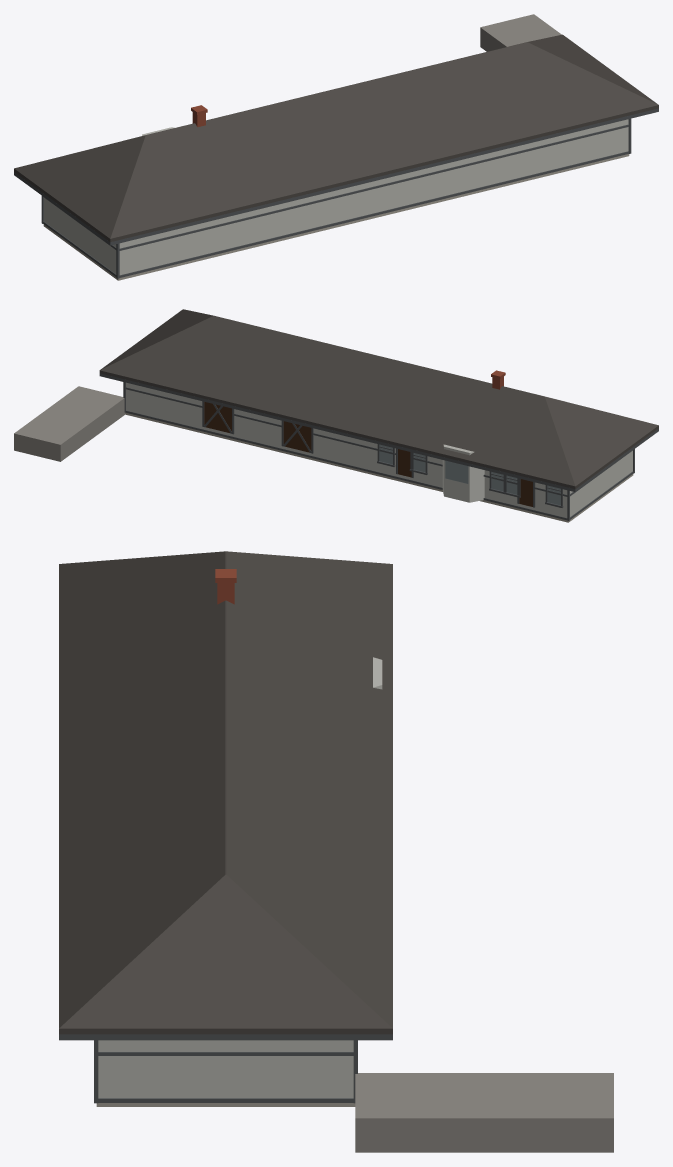
File: Standard_19_Depot.glb
3 renders of one model, top to bottom at view 1: azimuth 30°, elevation 25°; view 2: azimuth 150°, elevation 25°; view 3: azimuth 270°, elevation 25°, orthographic. The views are drawn at different scales.
Parts seen in each view (by area): view 1: roof, walls, trim, platform, foundation; view 2: roof, walls, trim, platform, doors, glass, foundation, sash; view 3: roof, platform, walls, trim, foundation.
Boxes of the visible parts, x1=… form: roof: x1=14, y1=34, x2=658, y2=242; walls: x1=44, y1=119, x2=628, y2=275; trim: x1=14, y1=108, x2=658, y2=278; platform: x1=480, y1=14, x2=561, y2=51; foundation: x1=43, y1=154, x2=629, y2=280; roof: x1=99, y1=309, x2=658, y2=489; walls: x1=126, y1=382, x2=632, y2=517; trim: x1=99, y1=373, x2=658, y2=520; platform: x1=14, y1=386, x2=125, y2=461; doors: x1=204, y1=402, x2=532, y2=506; glass: x1=379, y1=445, x2=560, y2=504; foundation: x1=125, y1=412, x2=633, y2=522; sash: x1=377, y1=444, x2=563, y2=507; roof: x1=59, y1=551, x2=392, y2=1034; platform: x1=355, y1=1073, x2=613, y2=1152; walls: x1=98, y1=657, x2=382, y2=1098; trim: x1=59, y1=1034, x2=392, y2=1103; foundation: x1=96, y1=1103, x2=355, y2=1106.
Bounding box in the file's own units: 1.14 × 0.2165 × 0.5413.
